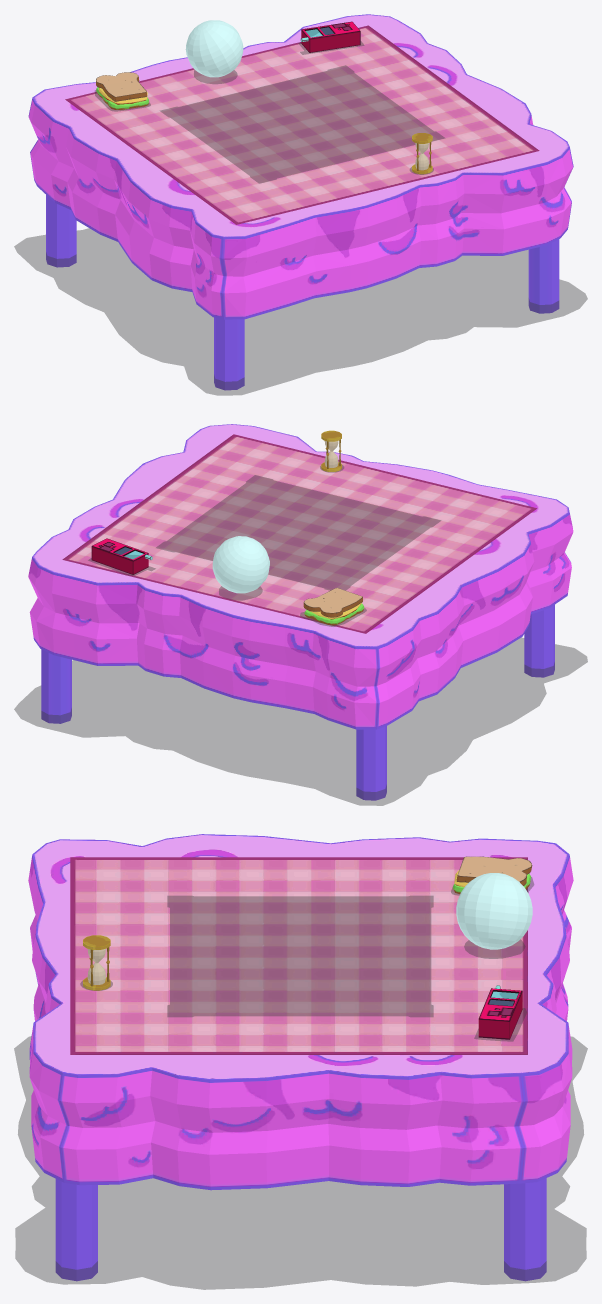
Rendered from LumpySpace_Table.glb.
3 renders of one model, top to bottom at view 1: azimuth 30°, elevation 25°; view 2: azimuth 150°, elevation 25°; view 3: azimuth 270°, elevation 25°, orthographic. The views are drawn at different scales.
Visible parts, largest first — view 1: LumpySpace_Table, LumpySpace_Table_objects, LumpySpace_Shadow, LumpySpace_Table_Shadow; view 2: LumpySpace_Table, LumpySpace_Table_objects, LumpySpace_Shadow, LumpySpace_Table_Shadow; view 3: LumpySpace_Table, LumpySpace_Table_objects, LumpySpace_Shadow, LumpySpace_Table_Shadow.
Part boxes in pixels (x1,y1,x2,y2): LumpySpace_Table: [28, 14, 573, 390]; LumpySpace_Table_objects: [65, 20, 539, 224]; LumpySpace_Shadow: [14, 41, 587, 395]; LumpySpace_Table_Shadow: [160, 65, 444, 183]; LumpySpace_Table: [28, 424, 573, 800]; LumpySpace_Table_objects: [62, 430, 536, 633]; LumpySpace_Shadow: [14, 465, 587, 805]; LumpySpace_Table_Shadow: [156, 475, 440, 590]; LumpySpace_Table: [28, 834, 573, 1281]; LumpySpace_Table_objects: [70, 856, 532, 1054]; LumpySpace_Shadow: [14, 877, 587, 1289]; LumpySpace_Table_Shadow: [167, 896, 433, 1016].
Bounding box in the file's own units: 5.32 × 2.67 × 4.91.
Materials: 3 (3 with a texture image).
